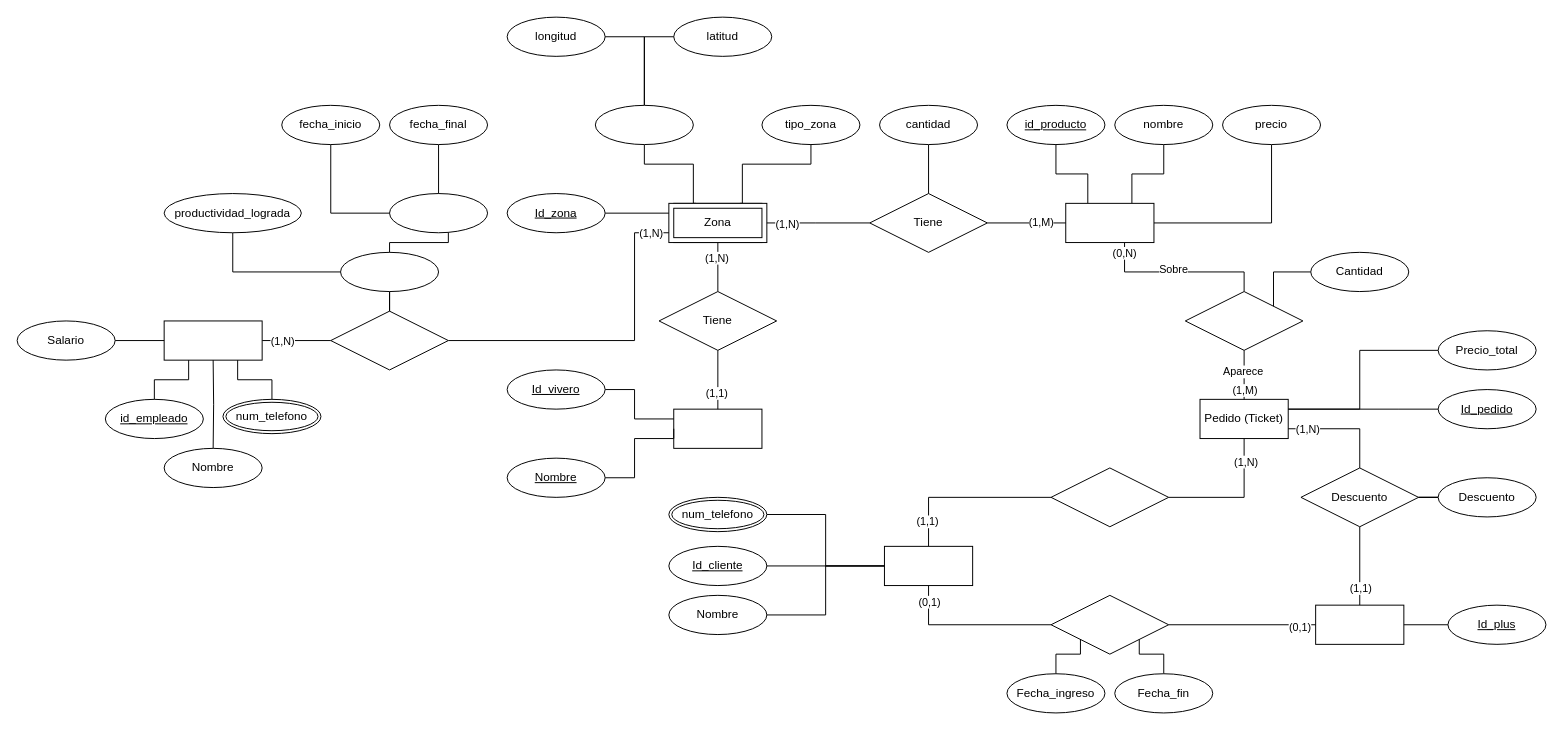
This 1563x730 diagram has some shape labels left out. Each missing label, with the centre of its shape:
"Cliente" goes at point (928, 565).
"Empleado" goes at point (212, 340).
"historial" goes at point (389, 271).
"Pertenece" goes at point (1109, 624).
"Producto" goes at point (1109, 222).
"Realiza" goes at point (1109, 497).
"Solicita" goes at point (1243, 320).
"TajinastePlus" goes at point (1359, 624).
"Trabaja" goes at point (389, 340).
"ubicacion" goes at point (643, 124).
"ViveroTajinaste" goes at point (717, 428).
"época_año" goes at point (438, 213).
